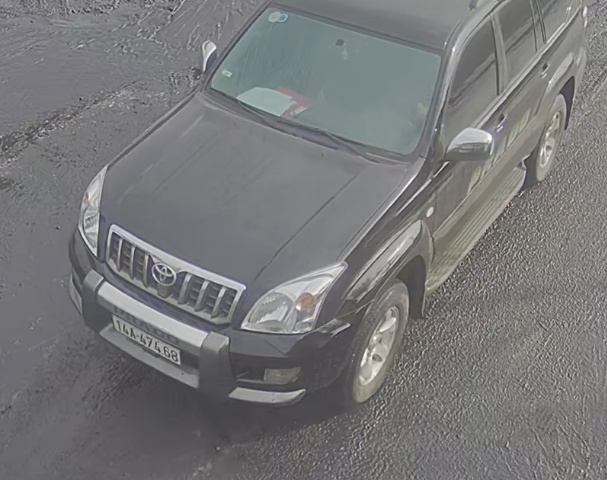vehicle plate: (106, 309, 192, 372)
